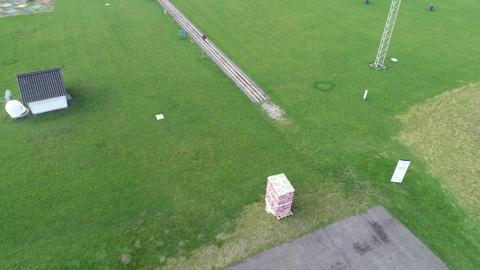RockwoolPallet: (265, 173, 296, 219)
